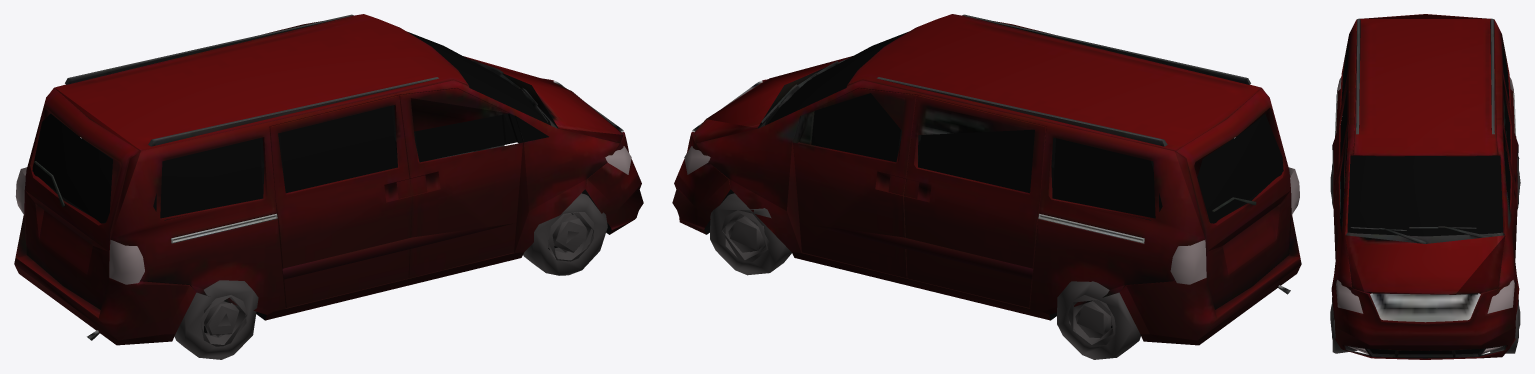
Rendered from pc-minivan.lod1.glb.
The picture shows the model from 3 angles, left to right: view 1: azimuth 30°, elevation 25°; view 2: azimuth 150°, elevation 25°; view 3: azimuth 270°, elevation 25°; orthographic projection. The views are drawn at different scales.
Parts seen in each view (by area): view 1: minivan body_Body_0, Wheel_D_Wheel_0; view 2: minivan body_Body_0, Wheel_D_Wheel_0; view 3: minivan body_Body_0, Wheel_D_Wheel_0.
Boxes of the visible parts, x1,y1,x2,y2 form: minivan body_Body_0: (14, 14, 643, 345); Wheel_D_Wheel_0: (15, 31, 631, 359); minivan body_Body_0: (672, 14, 1301, 345); Wheel_D_Wheel_0: (684, 31, 1299, 359); minivan body_Body_0: (1331, 14, 1519, 359); Wheel_D_Wheel_0: (1330, 44, 1520, 354).
Bounding box in the file's own units: 4.53 × 1.74 × 1.7.
2 materials, 1 textured.
